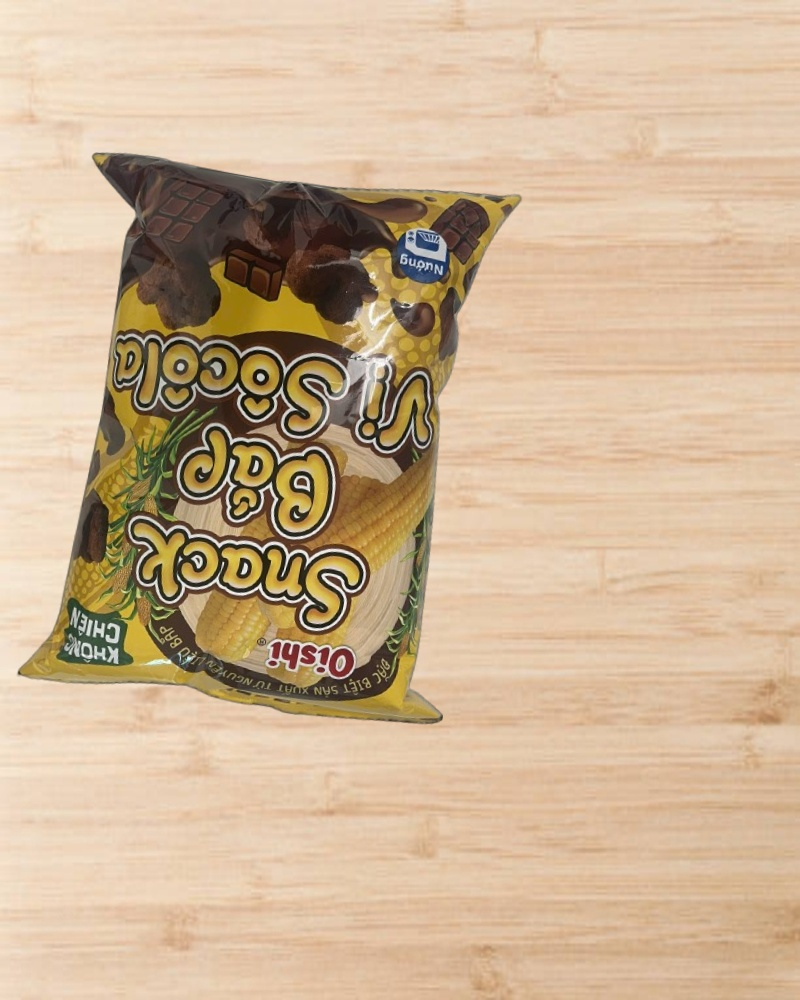Snack socola: (4, 125, 534, 749)
